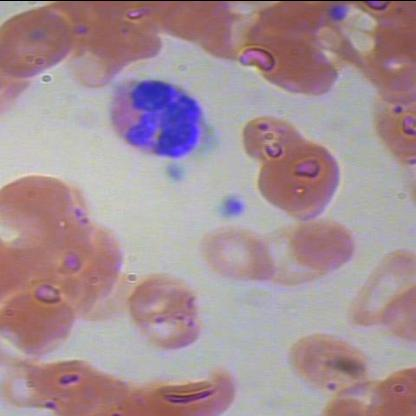Platelets: (158, 157, 192, 185), (214, 192, 247, 220)
RBC: (237, 25, 343, 100), (69, 14, 175, 89), (258, 139, 346, 217), (286, 321, 372, 396), (1, 167, 80, 243), (1, 4, 80, 80), (347, 244, 415, 330), (32, 356, 122, 416), (126, 371, 242, 415), (1, 291, 76, 356), (286, 216, 368, 275), (198, 225, 280, 284), (125, 270, 207, 329), (242, 114, 312, 166), (138, 313, 212, 355)
WBC: (99, 74, 215, 157)
